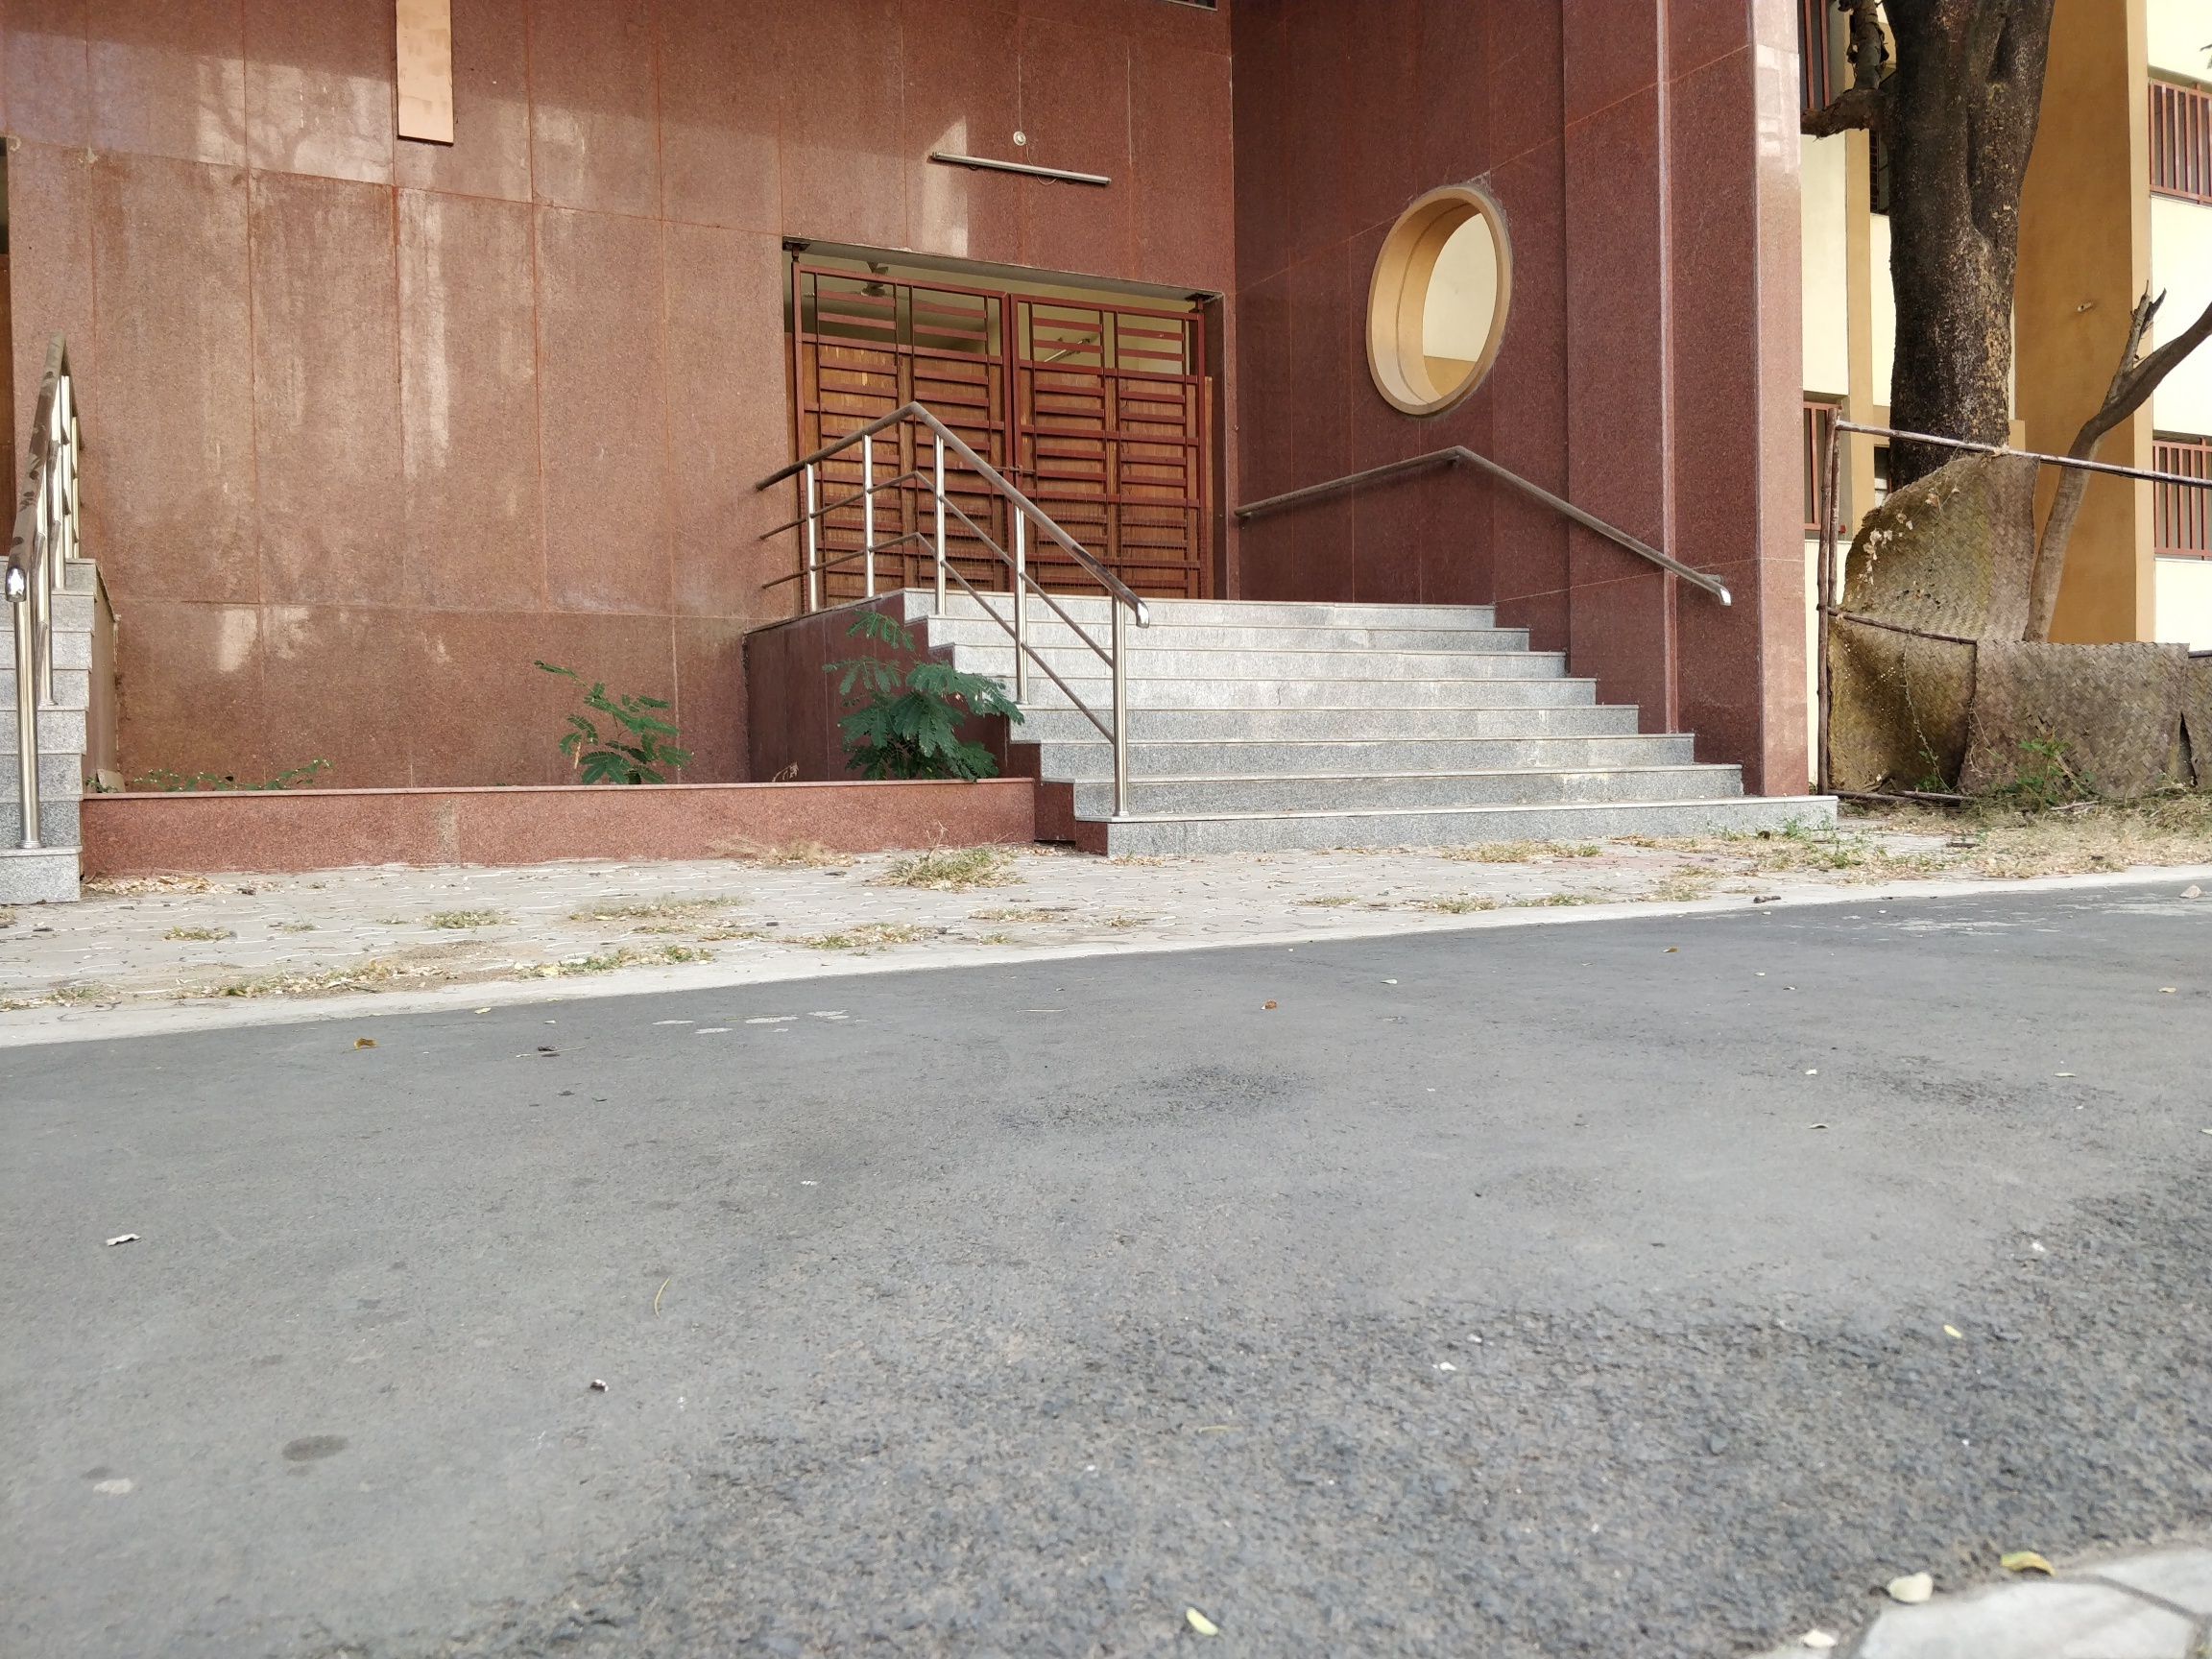stairs_up: (894, 575, 1815, 833)
